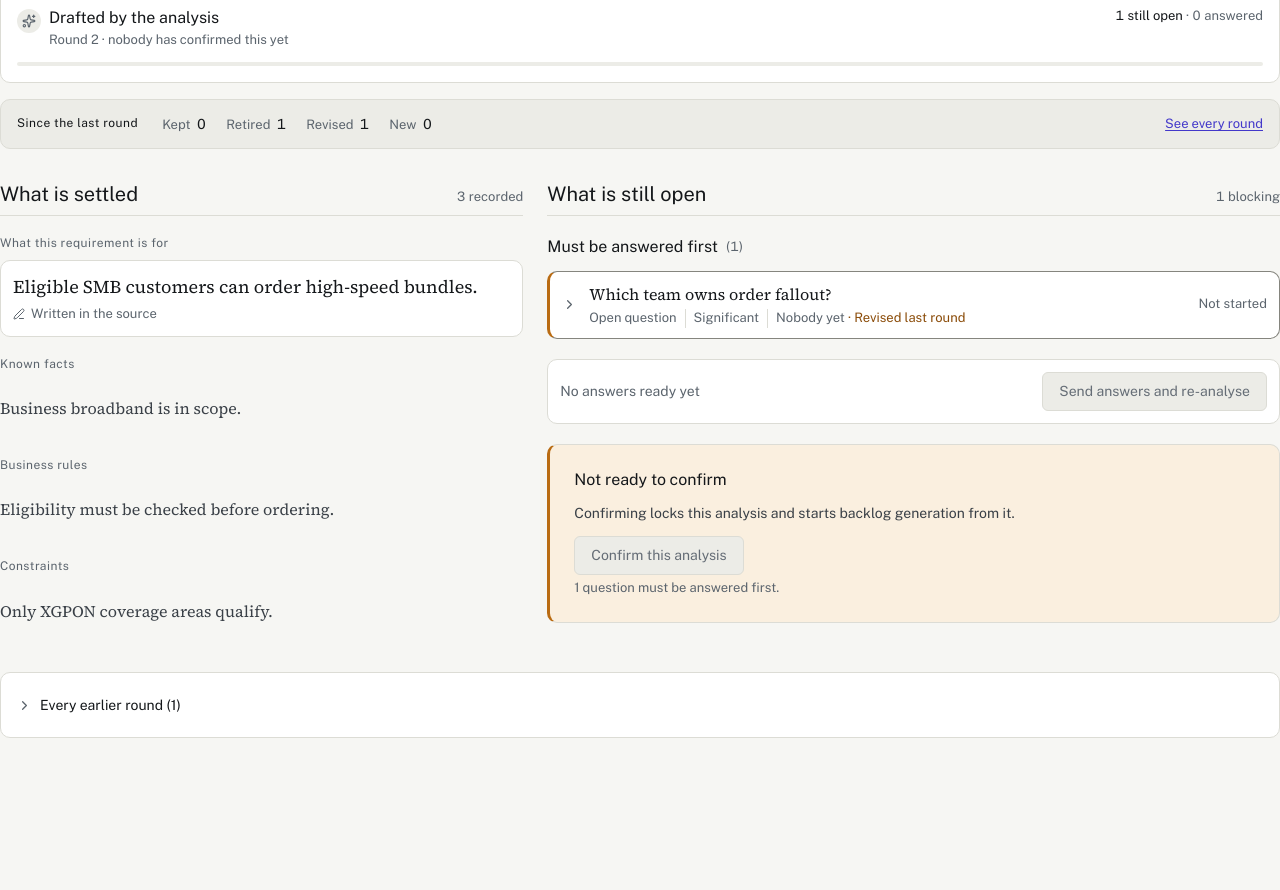
Test case: AnalysisPanel › shows reconciliation counts, replacement provenance, and archived drafts
The width and height of the screenshot is (1280, 890).
Expected: the message "Since the last round" reads "Since the last round Kept 0 Retired 1 Revised 1 New 0 See every round", [0,99,1279,149]
Expected: the text "· Revised last round" is shown, [845,310,965,325]
Step 1. Click the heading "Every earlier round (1)" → (99, 705), box [17,697,181,713]
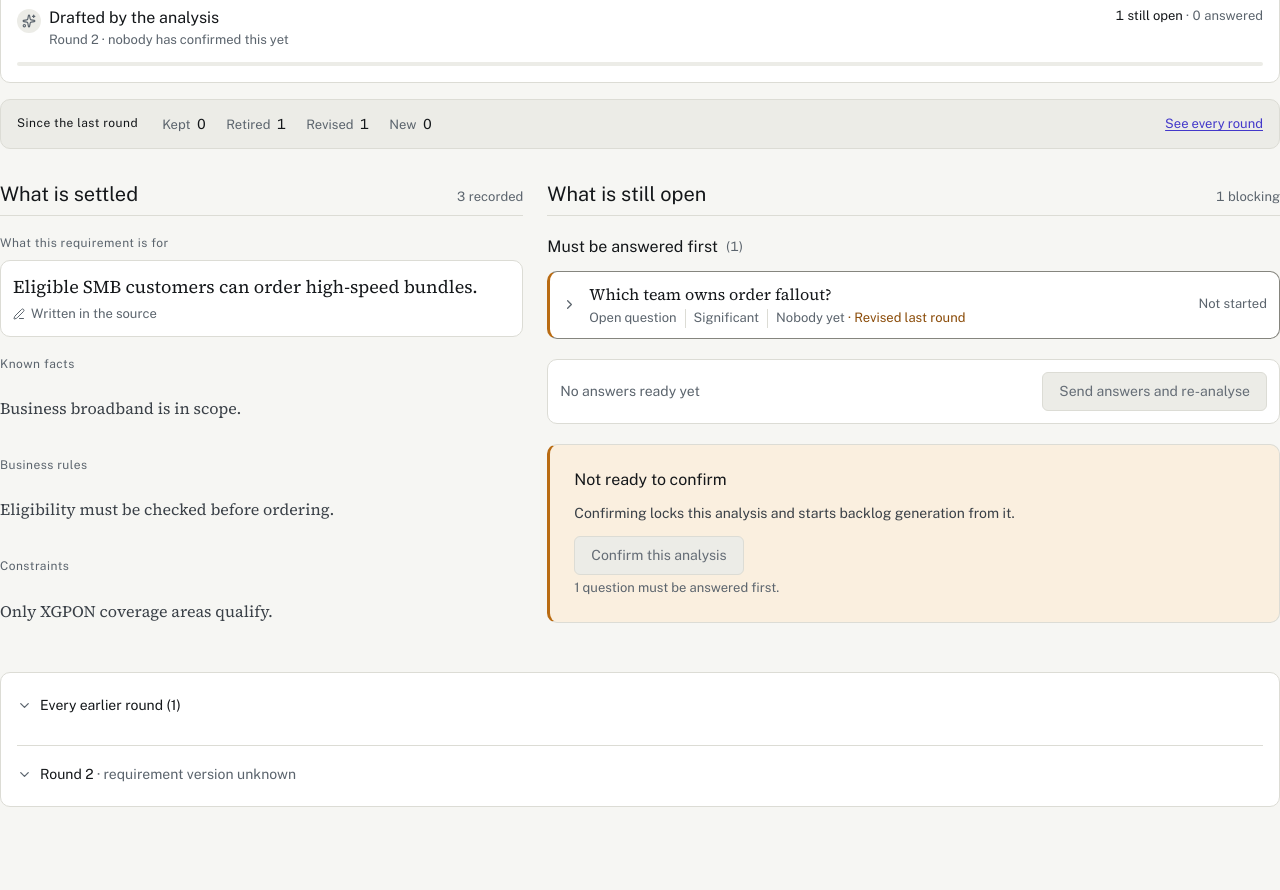
Step 2. Click the text "Round 2" → (63, 774), box [40,766,94,782]
(page scrolled)
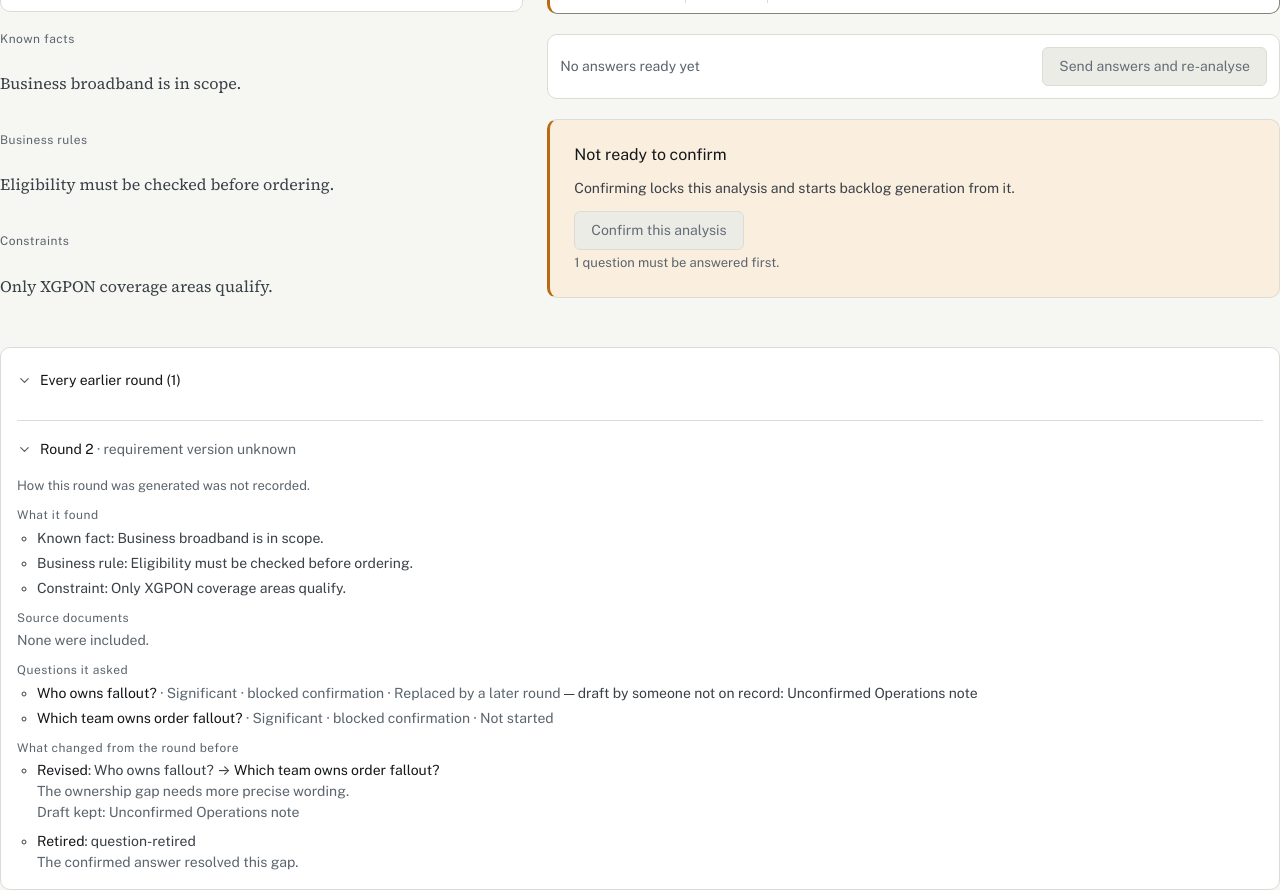
Result: the text "The ownership gap needs more precise wording." is shown at [37,783,349,799]
Result: the text "Draft kept: Unconfirmed Operations note" is shown at [37,804,300,820]
